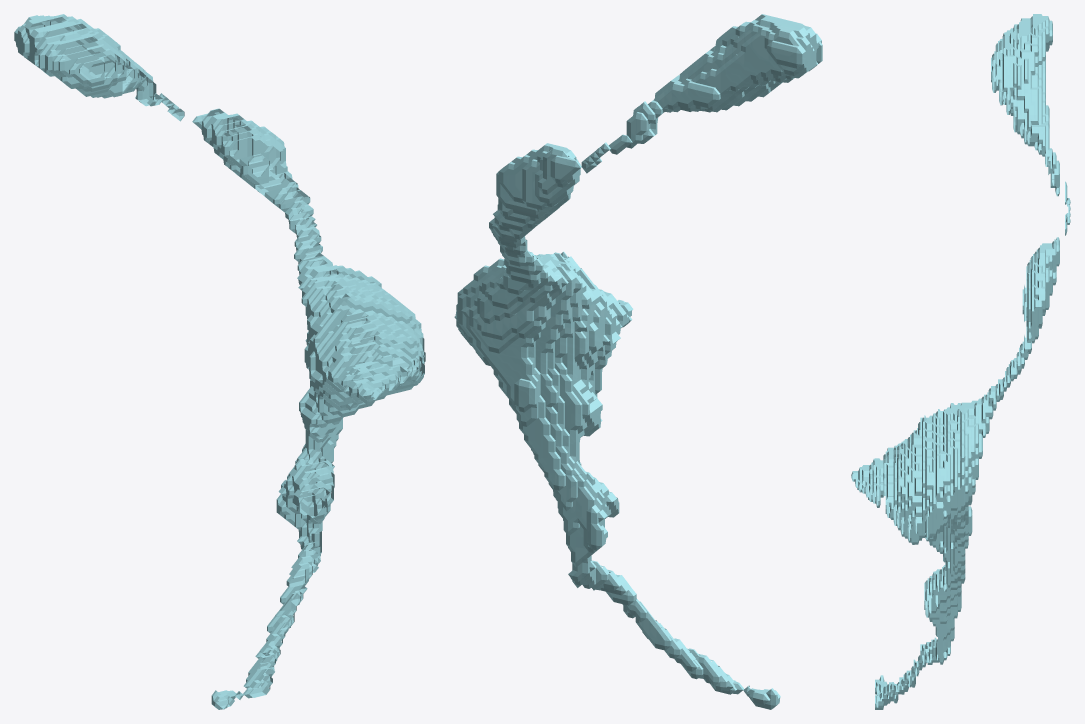
Rendered from SVV_ADLR.gltf.
3 views of the same model, side by side, from view 1: azimuth 30°, elevation 25°; view 2: azimuth 150°, elevation 25°; view 3: azimuth 270°, elevation 25° (orthographic). The views are drawn at different scales.
Visible parts, largest first — view 1: ADLR; view 2: ADLR; view 3: ADLR.
Part boxes in pixels (x1,y1,x2,y2): ADLR: (14,14,425,709); ADLR: (454,14,822,709); ADLR: (851,14,1070,709).
Bounding box in the file's own units: 41999 × 75814 × 23963.
